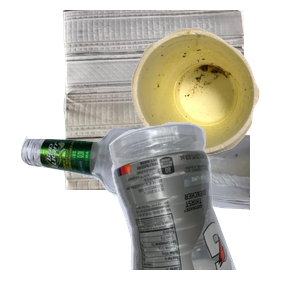glass: (18, 124, 258, 300)
paper: (60, 10, 300, 190)
plastic: (106, 120, 300, 300)
trash: (129, 25, 300, 173)
